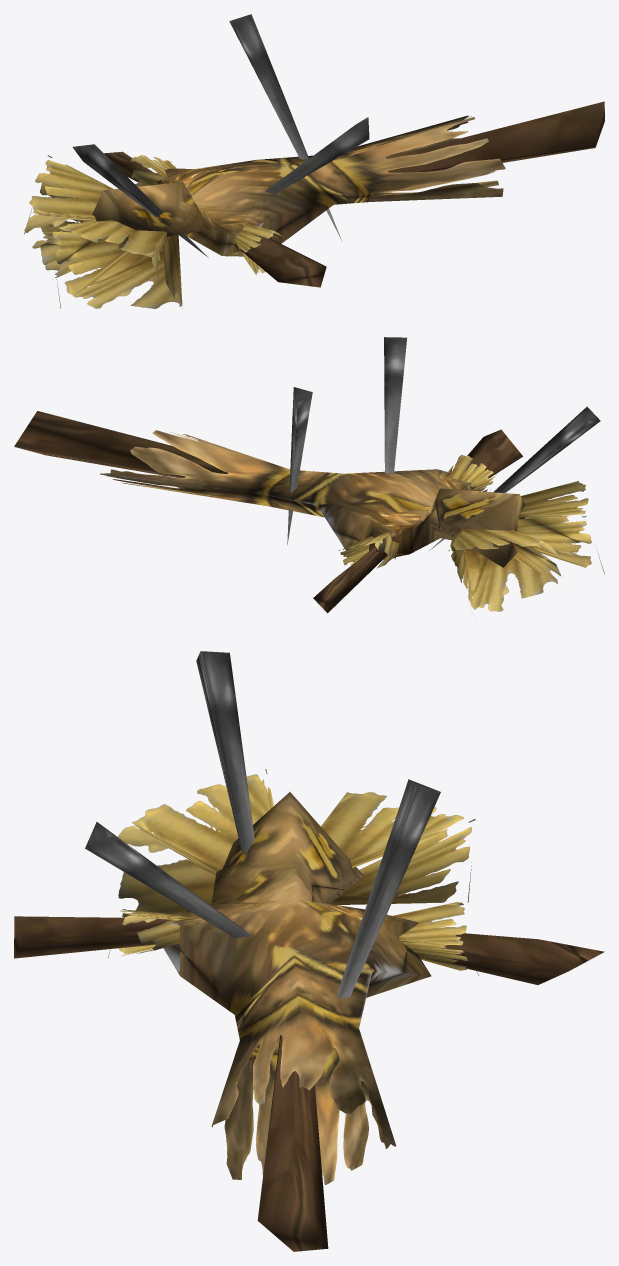
Rendered from voodoodoll02.obj.
3 renders of one model, top to bottom at view 1: azimuth 30°, elevation 25°; view 2: azimuth 150°, elevation 25°; view 3: azimuth 270°, elevation 25°, orthographic. The views are drawn at different scales.
Size of the model in its own units: 1.13 by 0.3901 by 0.6932.
1 material, 1 textured.
